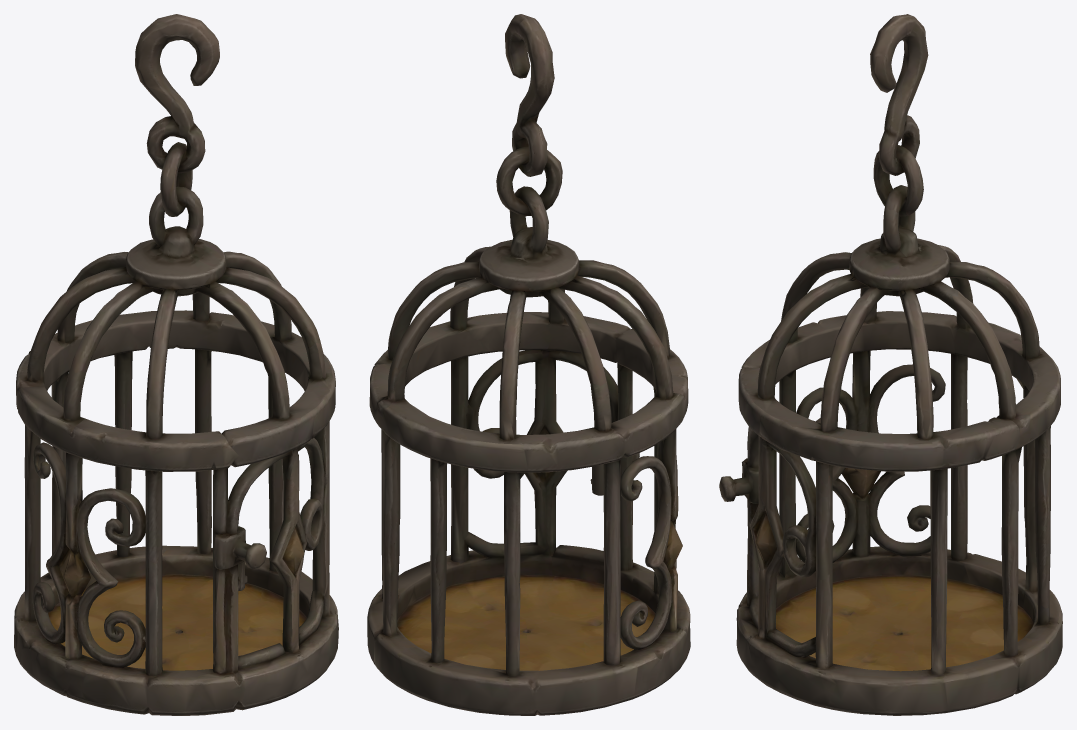
File: trim_birdcage.glb
3 views of the same model, side by side, from view 1: azimuth 30°, elevation 25°; view 2: azimuth 150°, elevation 25°; view 3: azimuth 270°, elevation 25° (orthographic).
Visible parts, largest first — view 1: tripo_node_067ab7d8-fdd5-4963-b39d-8cf786bf3cfa; view 2: tripo_node_067ab7d8-fdd5-4963-b39d-8cf786bf3cfa; view 3: tripo_node_067ab7d8-fdd5-4963-b39d-8cf786bf3cfa.
Part boxes in pixels (left/top/right/bottom): tripo_node_067ab7d8-fdd5-4963-b39d-8cf786bf3cfa: left=14, top=14, right=338, bottom=715; tripo_node_067ab7d8-fdd5-4963-b39d-8cf786bf3cfa: left=367, top=14, right=690, bottom=715; tripo_node_067ab7d8-fdd5-4963-b39d-8cf786bf3cfa: left=719, top=14, right=1062, bottom=715.
Size of the model in its own units: 0.453 by 0.9781 by 0.481.
1 material, 1 textured.
